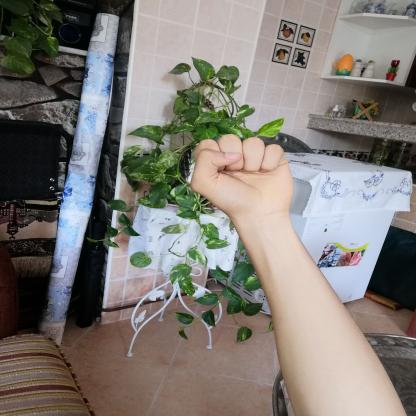SAD: (173, 121, 304, 224)
